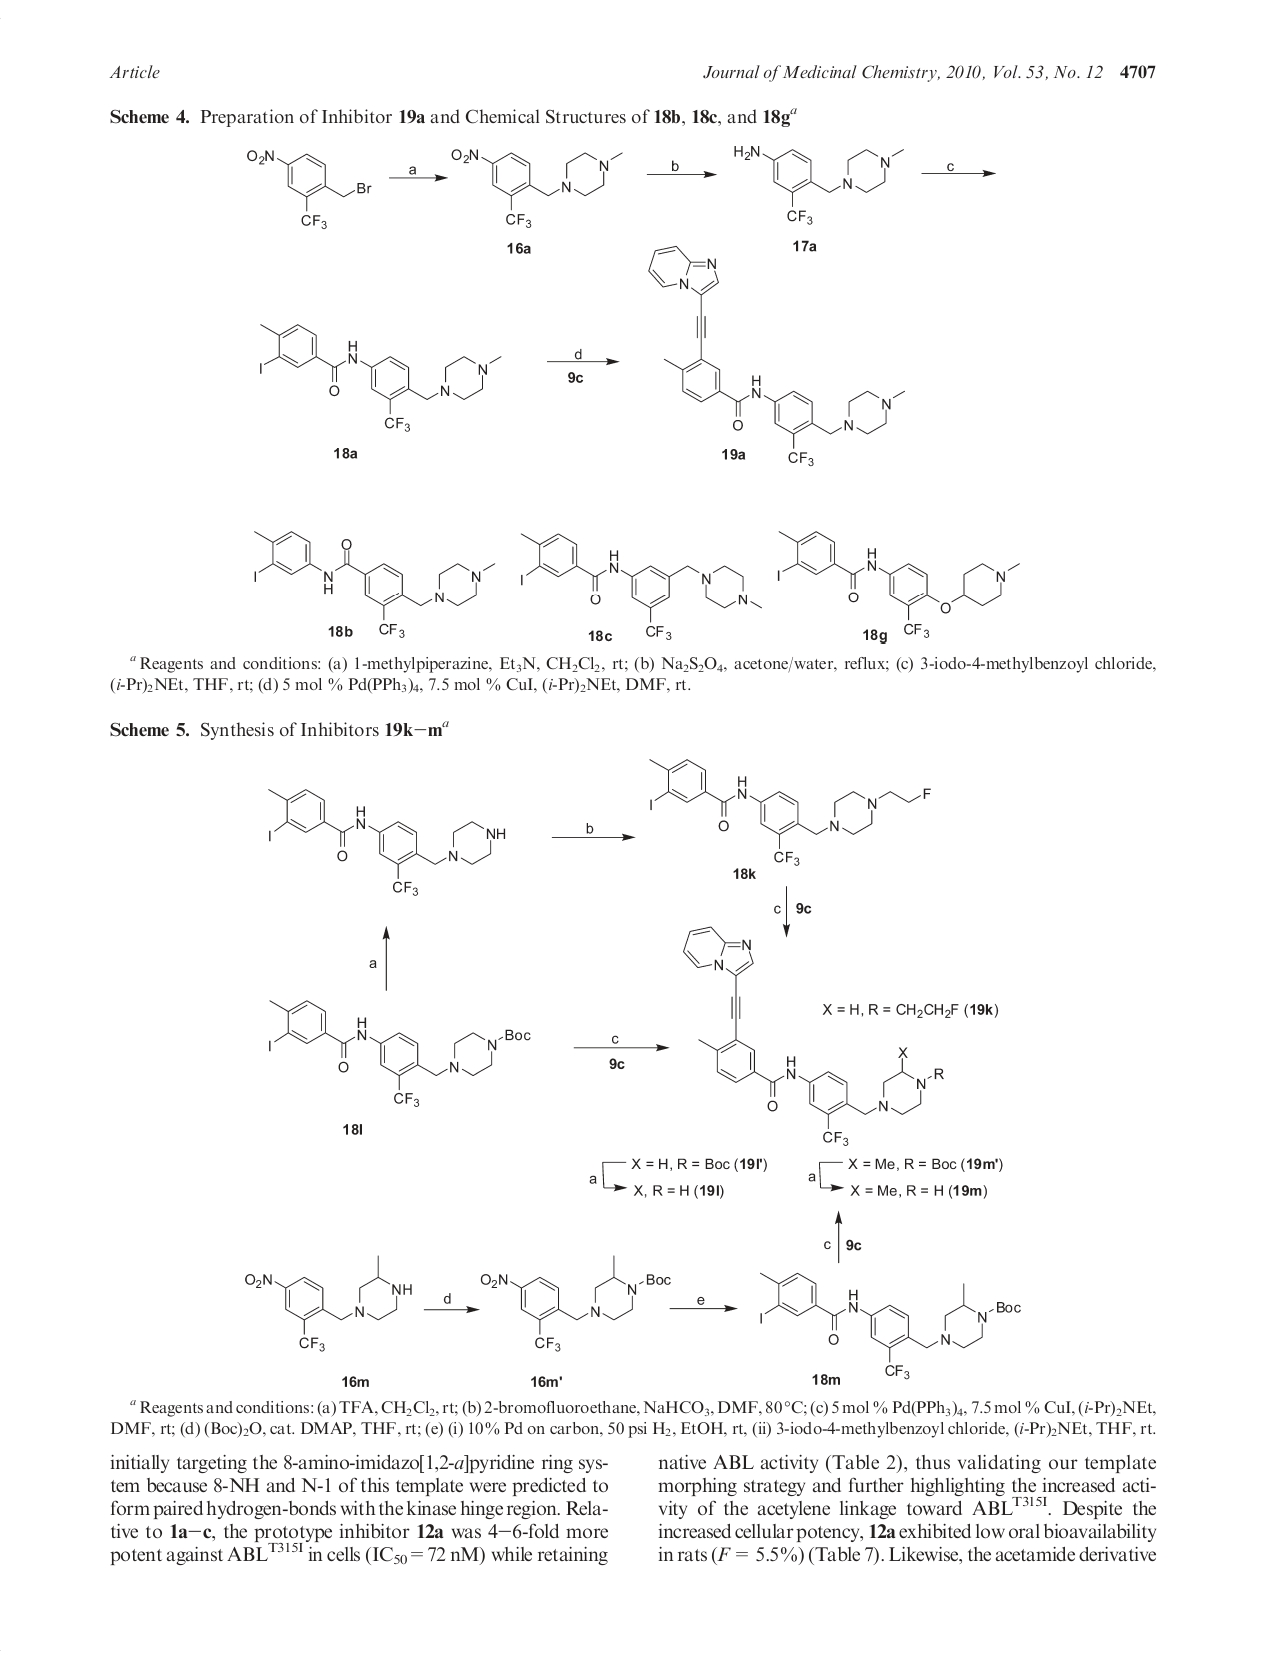exist_molecular: (680, 926, 948, 1148), (648, 243, 908, 471), (755, 1266, 1027, 1382), (648, 754, 932, 863), (261, 995, 531, 1106), (773, 528, 1027, 644), (515, 528, 765, 644), (247, 527, 497, 641), (257, 321, 501, 434), (263, 785, 511, 896), (477, 1253, 676, 1352), (241, 1254, 414, 1354), (445, 140, 622, 231), (731, 141, 904, 223), (245, 146, 372, 233)
